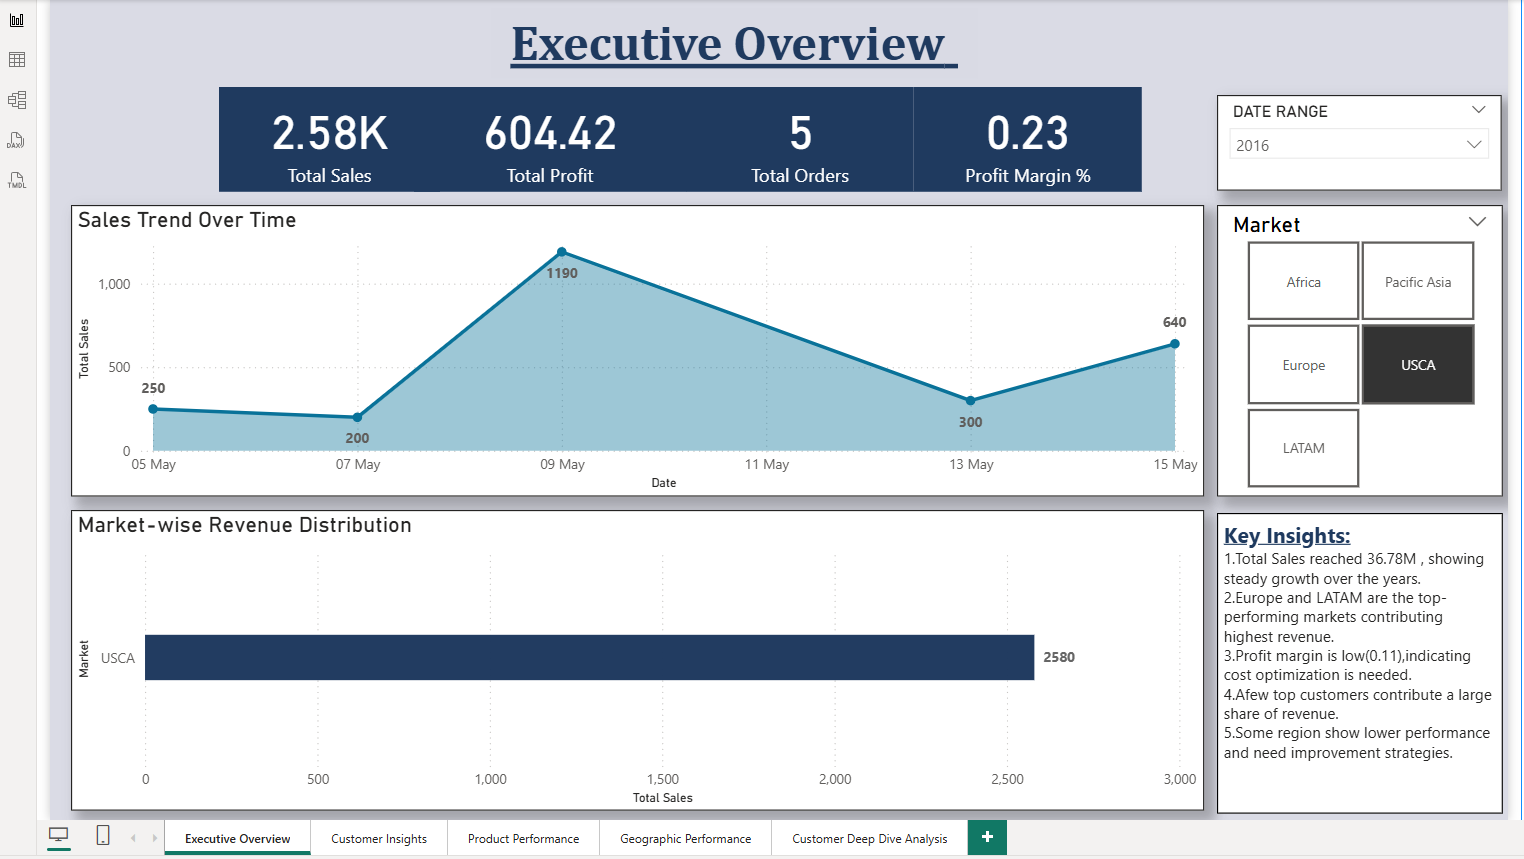

The dashboard page shown, as its layout file describes it:
{"tool":"powerbi","page":{"name":"Executive Overview","canvas":[1280,720],"ordinal":0},"visuals":[{"type":"card","title":"PROFIT","fields":{"Values":["Measures (1).Total Profit"]},"box":[319.7,76,238.9,91.7],"z":0},{"type":"textbox","box":[387.3,7.2,427.1,61.5],"z":1000},{"type":"card","title":"SALES","fields":{"Values":["Measures (1).Total Sales"]},"box":[148.4,76,194.2,91.7],"z":2000},{"type":"card","title":"MARGIN","fields":{"Values":["Measures (1).Profit Margin %"]},"box":[758.9,76,200.3,91.7],"z":3000},{"type":"card","title":"ORDERS","fields":{"Values":["Measures (1).Total Orders"]},"box":[558.6,76,200.3,91.7],"z":4000},{"type":"lineChart","title":"Sales Trend Over Time","fields":{"Category":["DimDate.Date"],"Y":["Measures (1).Total Sales"]},"box":[18.1,179.8,995.3,255.8],"z":5000},{"type":"clusteredBarChart","title":"Market-wise Revenue Distribution","fields":{"Y":["Measures (1).Total Sales"],"Category":["DimMarket.Market"]},"box":[18.1,447.6,995.3,264.2],"z":6000},{"type":"slicer","fields":{"Values":["DimDate.Date (bins)"]},"box":[1024.3,83.2,249.7,84.5],"z":7000},{"type":"slicer","fields":{"Values":["DimMarket.Market"]},"box":[1024.3,179.8,250.9,255.8],"z":8000},{"type":"textbox","box":[1024.3,450,250.9,264.2],"z":9000}]}

Visuals, with their boxes in screenshot pixels (x1, y1, x2, y2):
"PROFIT" card: bbox=(418, 86, 688, 190)
textbox: bbox=(494, 8, 978, 78)
"SALES" card: bbox=(224, 86, 444, 190)
"MARGIN" card: bbox=(915, 86, 1142, 190)
"ORDERS" card: bbox=(688, 86, 915, 190)
"Sales Trend Over Time" lineChart: bbox=(76, 204, 1203, 493)
"Market-wise Revenue Distribution" clusteredBarChart: bbox=(76, 507, 1203, 806)
slicer - DimDate.Date (bins): bbox=(1216, 94, 1498, 190)
slicer - DimMarket.Market: bbox=(1216, 204, 1500, 493)
textbox: bbox=(1216, 510, 1500, 809)
